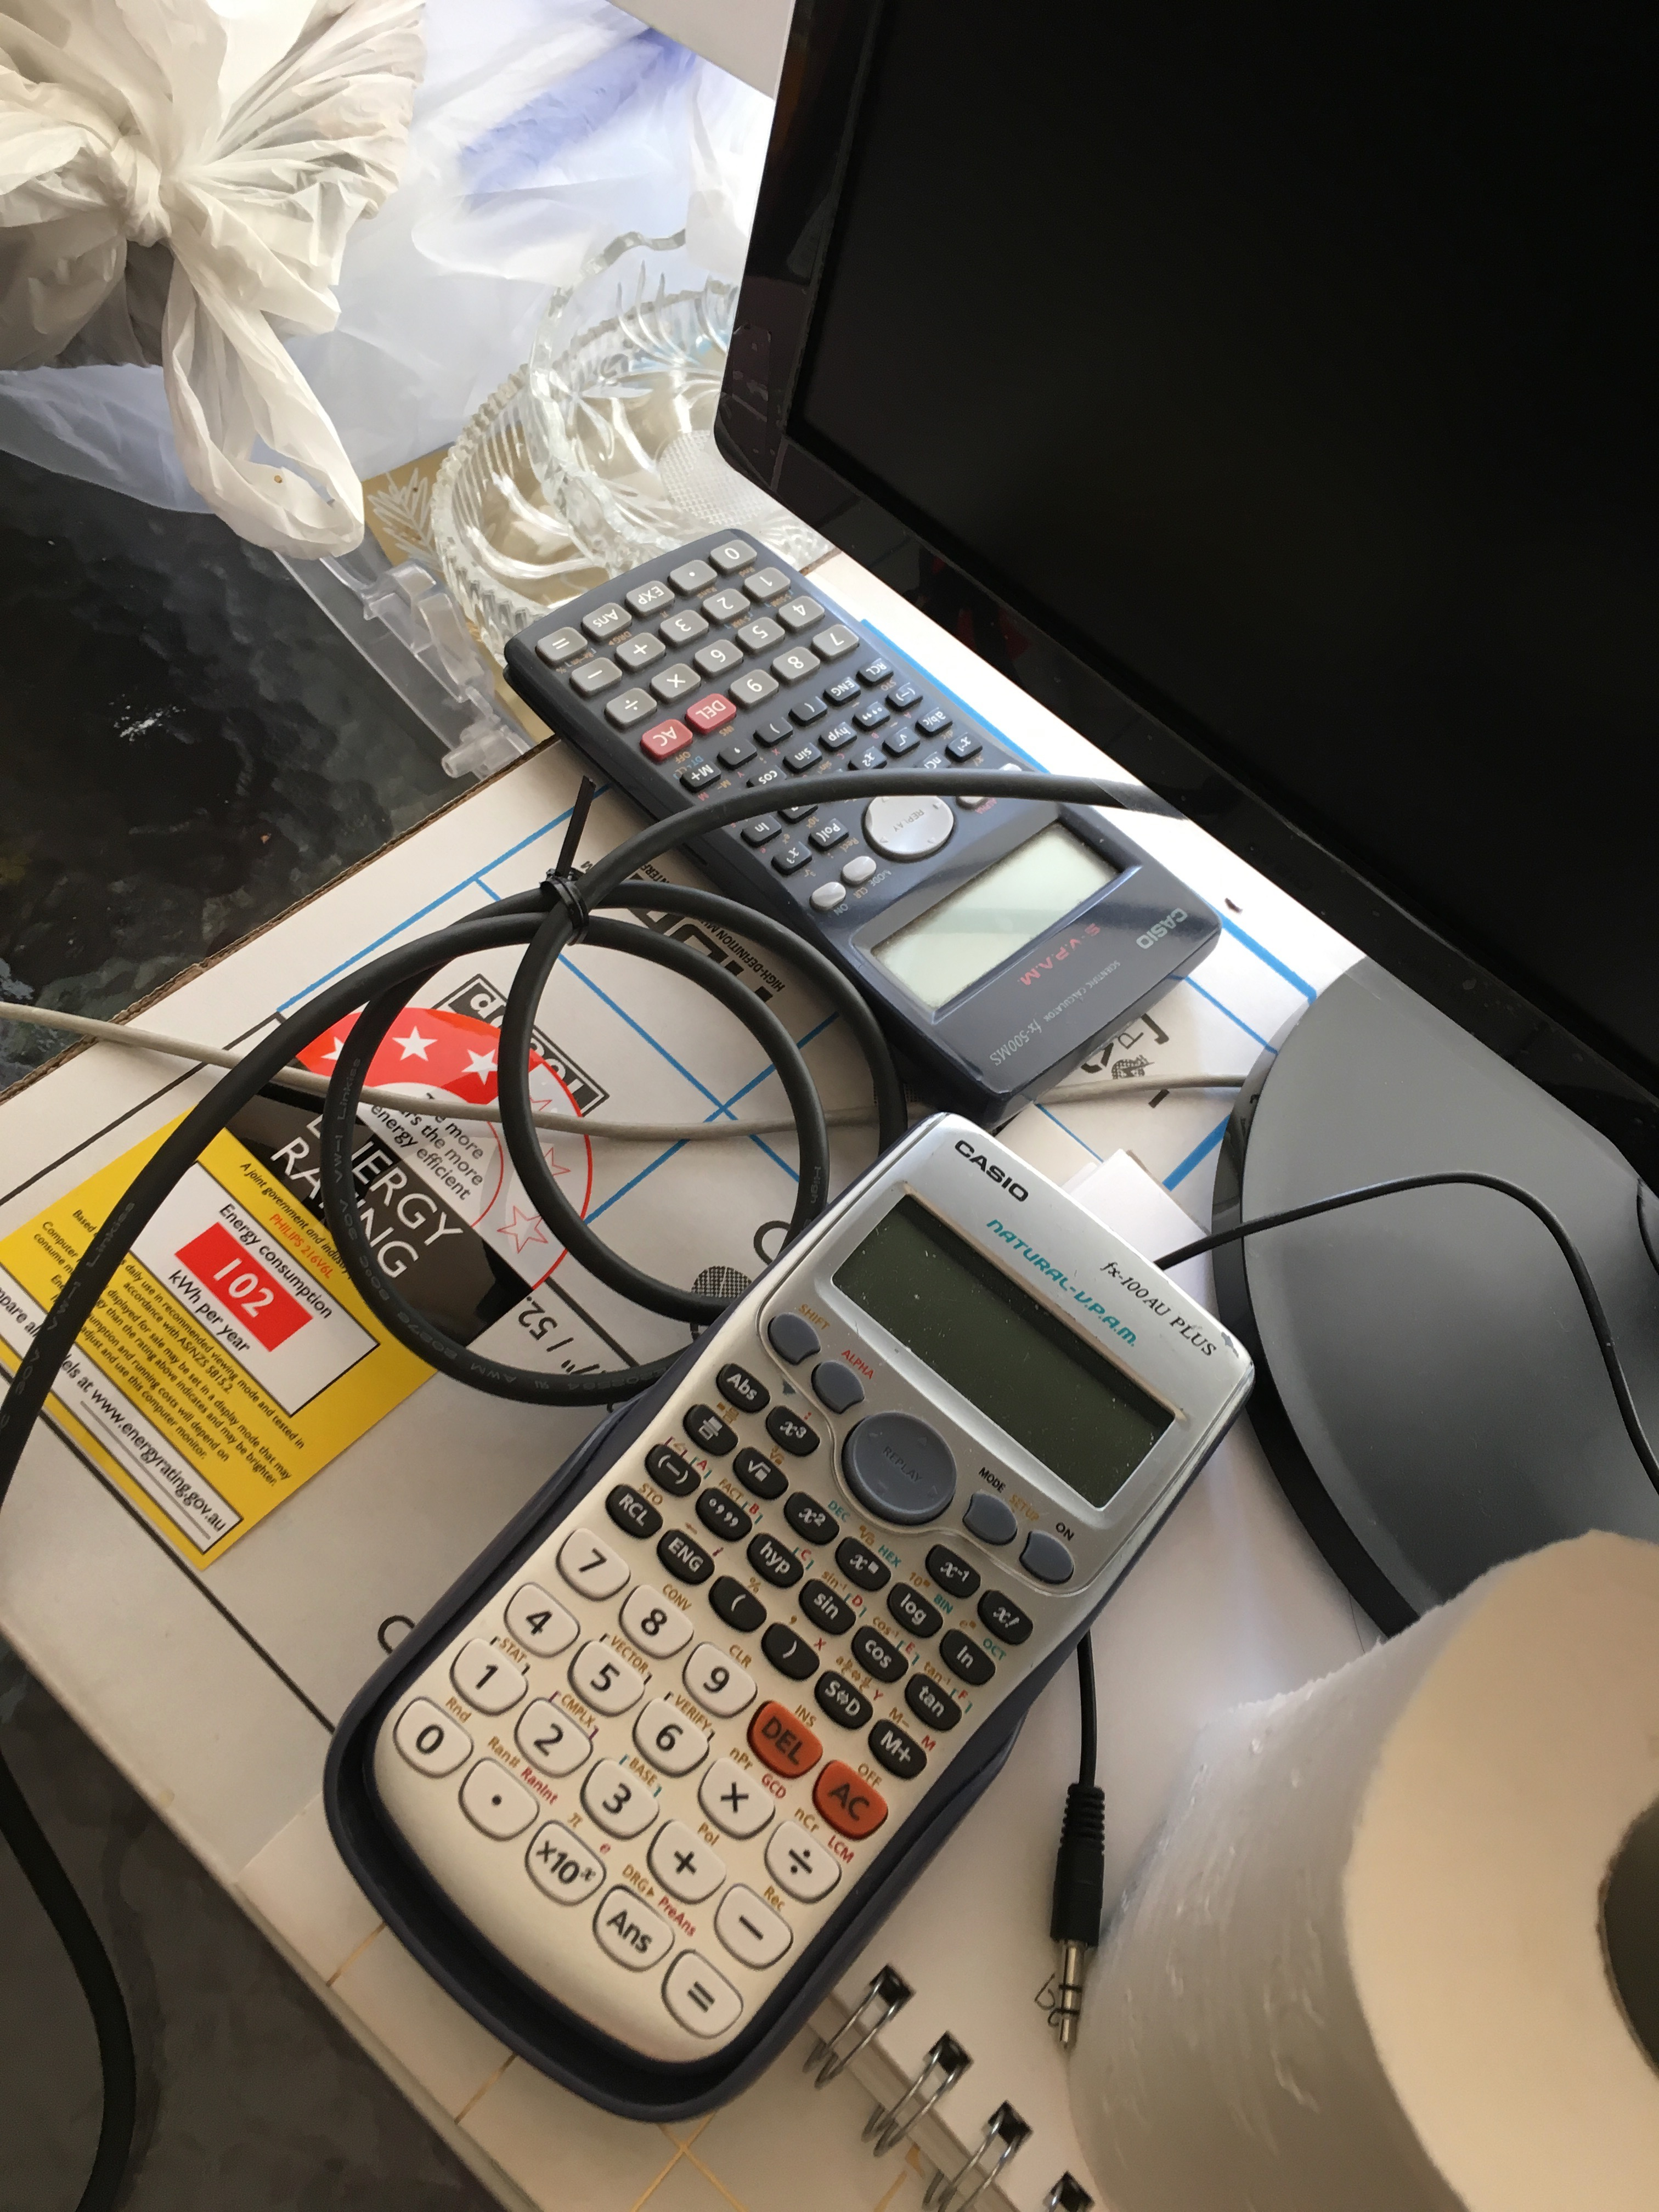Calculator: (307, 1113, 1284, 2148), (497, 529, 1218, 1130)
